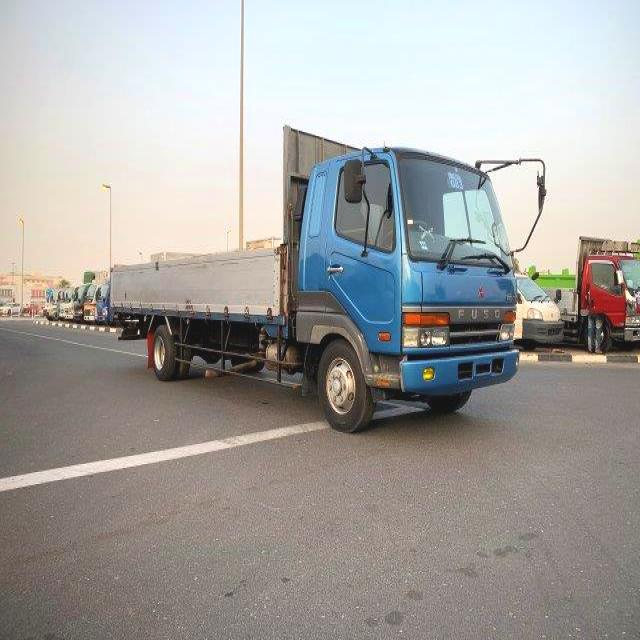truck: (106, 120, 547, 434)
